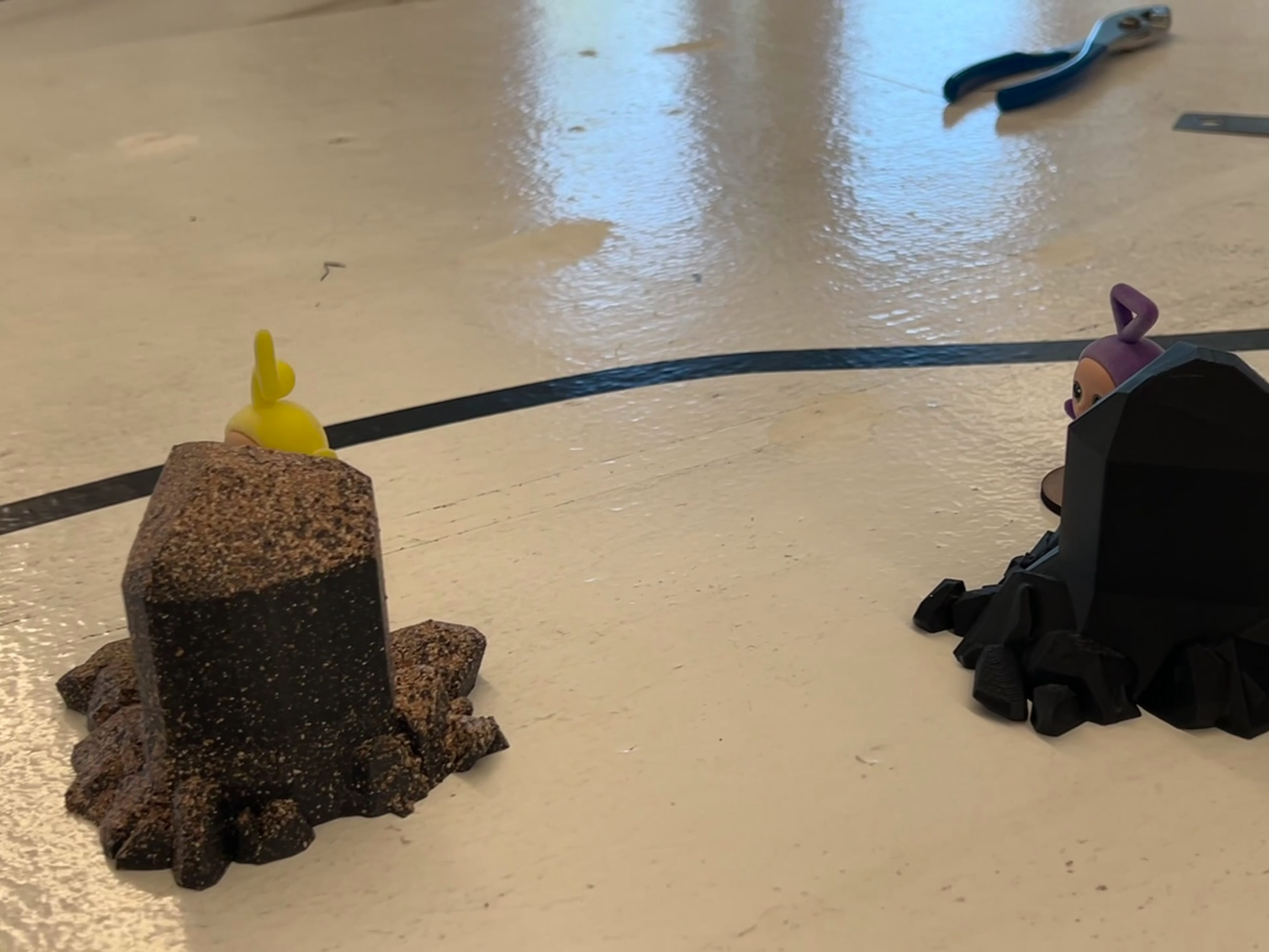teletubby: (225, 330, 337, 457), (1064, 285, 1164, 419)
